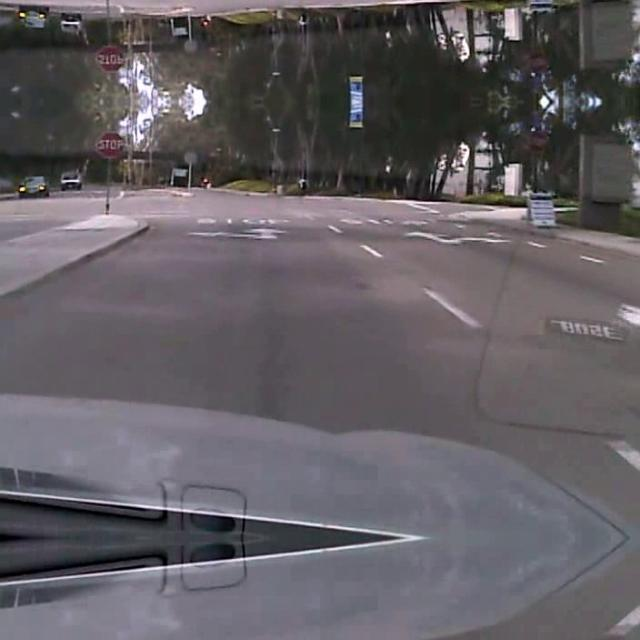stop: (94, 128, 124, 158), (94, 44, 124, 74)
